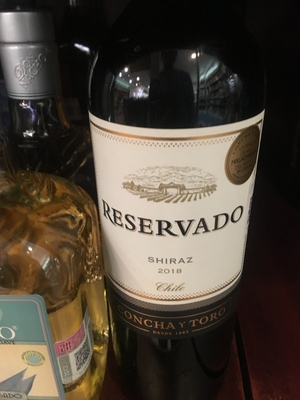reservado shiraz: (89, 24, 253, 368)
